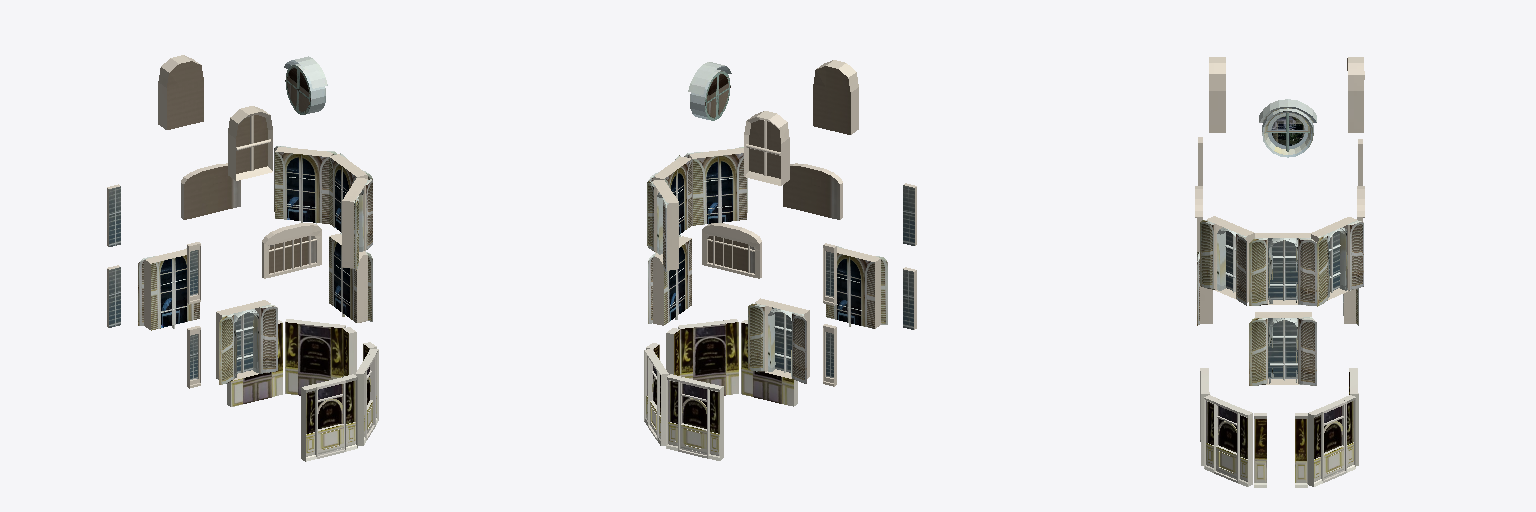
3 renders of one model, left to right at view 1: azimuth 30°, elevation 25°; view 2: azimuth 150°, elevation 25°; view 3: azimuth 270°, elevation 25°, orthographic.
Parts seen in each view (by area): view 1: Ventanas; view 2: Ventanas; view 3: Ventanas.
Part boxes in pixels (x1,y1,x2,y2): Ventanas: (107,55,378,461); Ventanas: (644,60,916,460); Ventanas: (1195,57,1364,487).
Size of the model in its own units: 52.07 by 82.72 by 35.39.
2 materials, 2 textured.